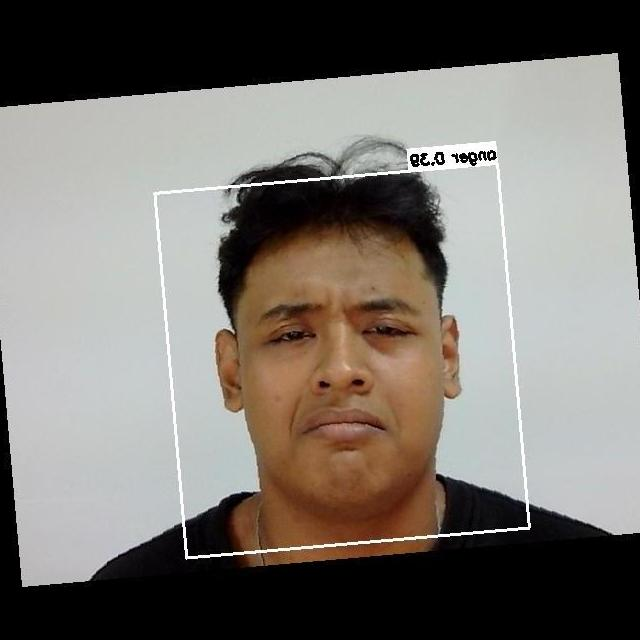Sad: (221, 283, 458, 504)
